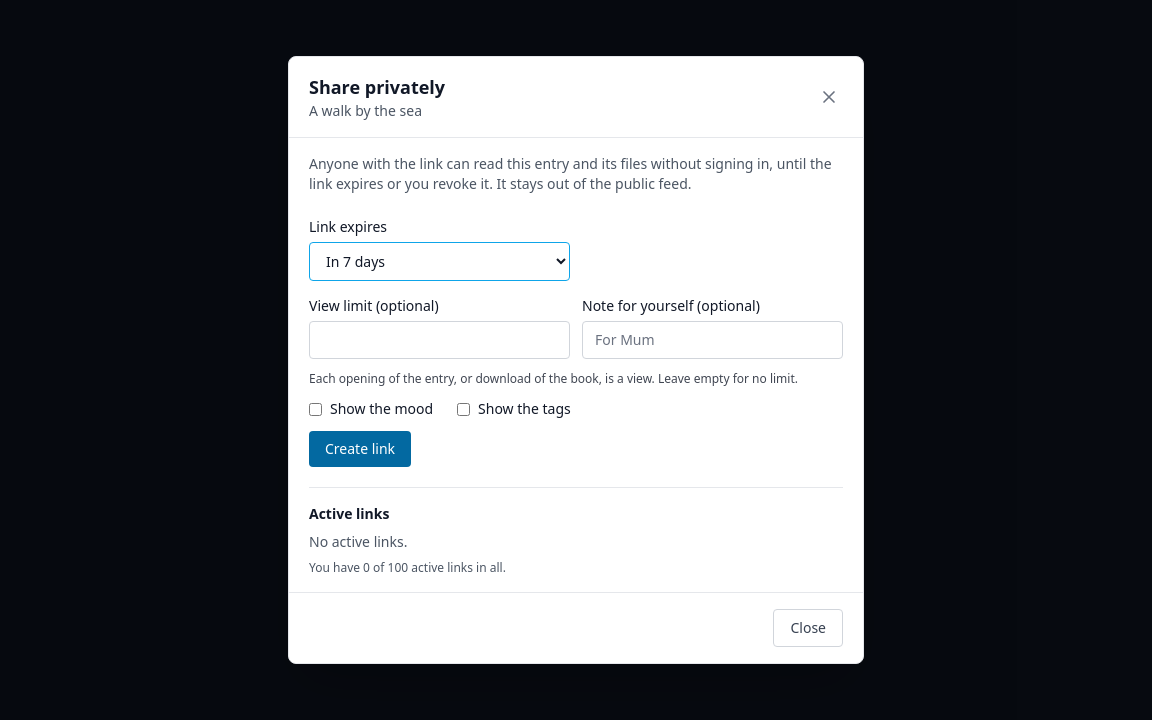
Scenario: ShareLinkDialog › makes a link with the chosen expiry and options, and shows its address once to copy
Expected: the text "No active links." is shown, x1=309 y1=532 x2=408 y2=551
Step 1. Select "In 1 day" in the dropdown labelled "Link expires" → point(440, 262), box x1=309 y1=242 x2=570 y2=281
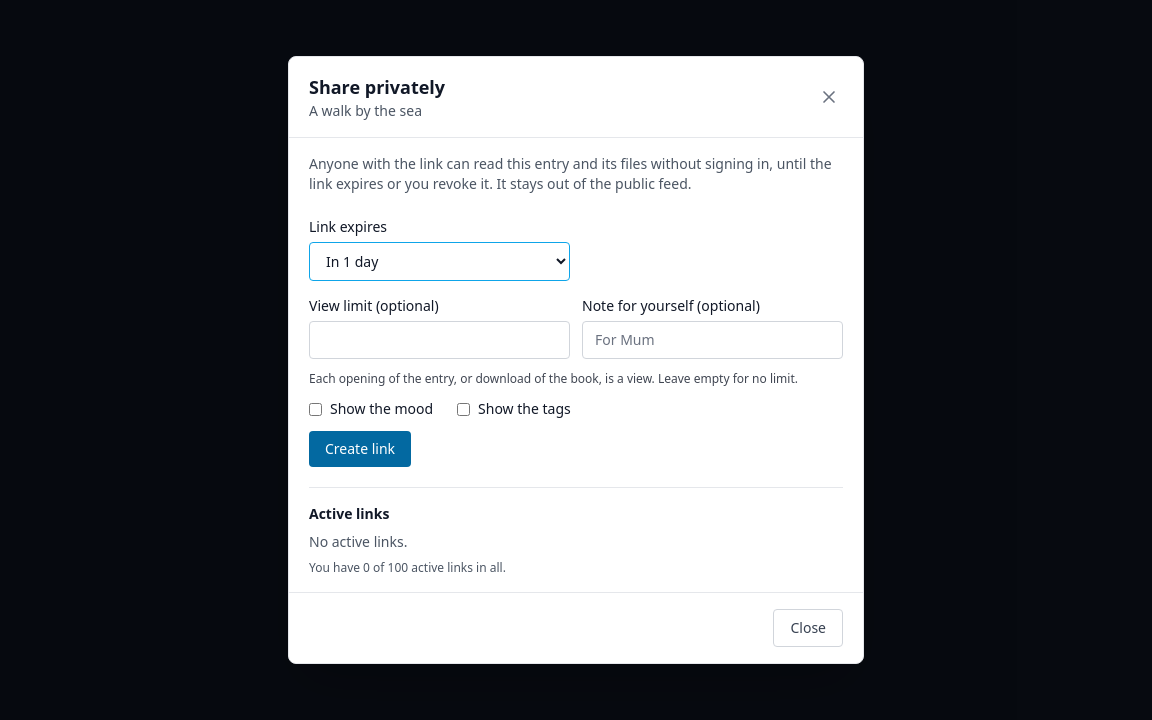
Step 2. Type "3" into the number field labelled "View limit (optional)" → point(440, 340), box x1=309 y1=321 x2=570 y2=359
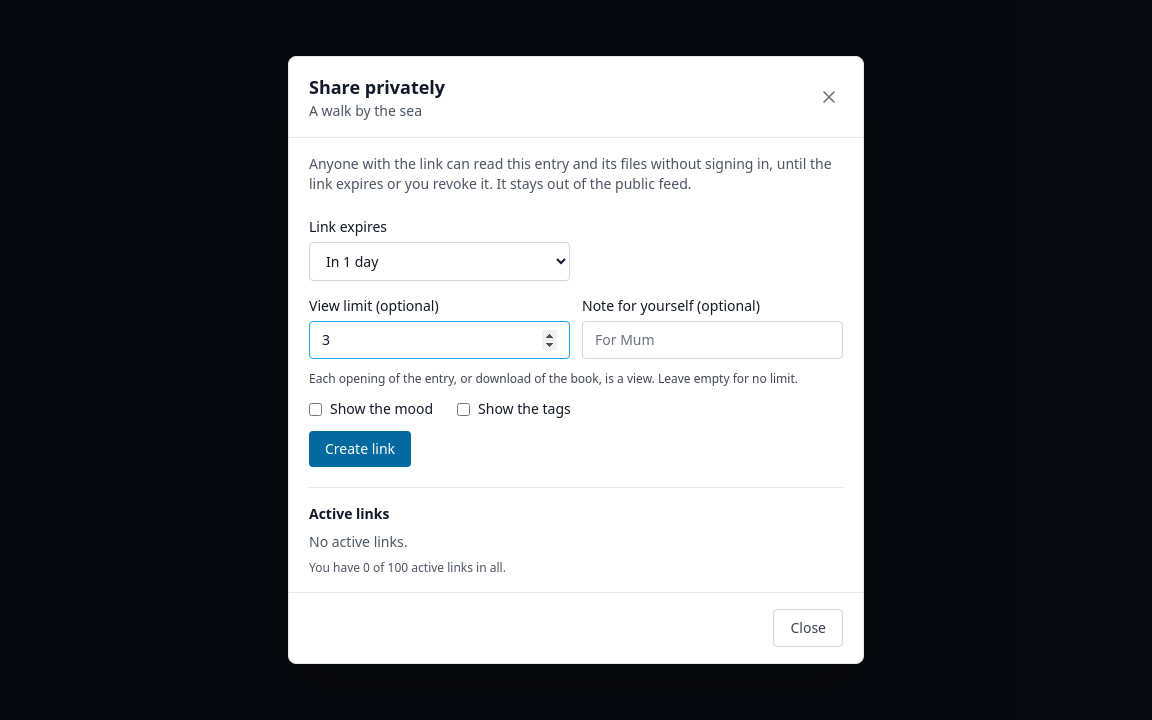
Step 3. Type " For Mum " into the field labelled "Note for yourself (optional)" → point(712, 340), box x1=582 y1=321 x2=843 y2=359
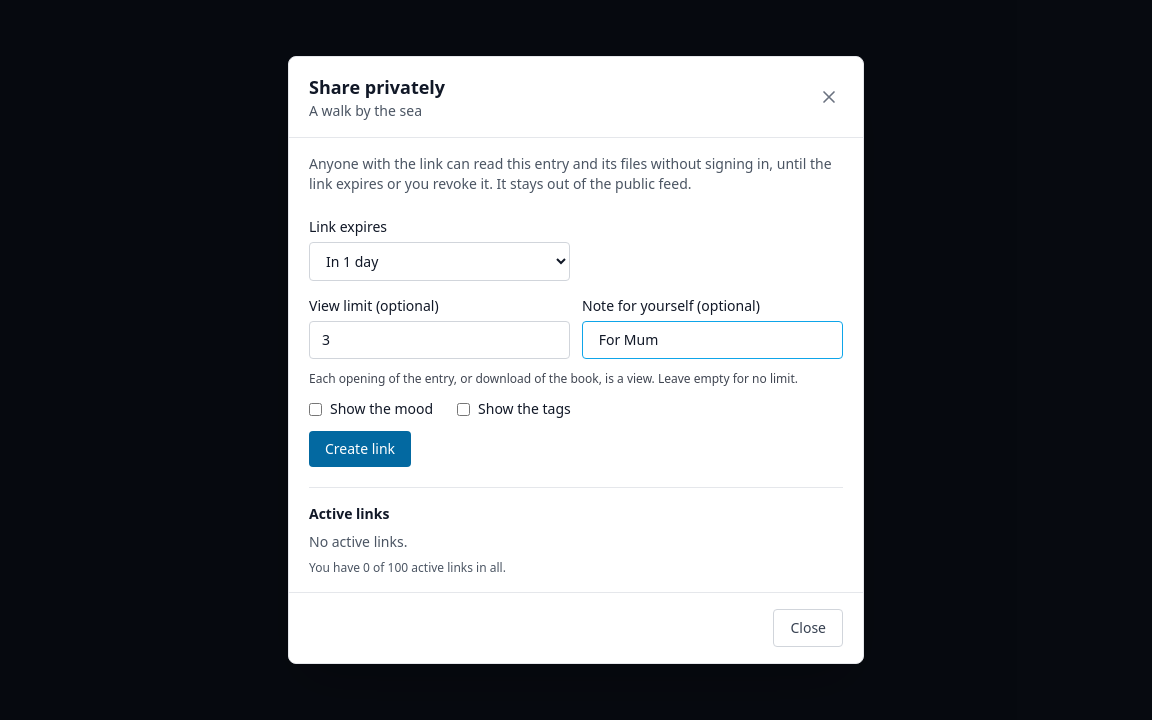
Step 4. Click the checkbox labelled "Show the tags" → point(464, 409), box x1=457 y1=402 x2=470 y2=416
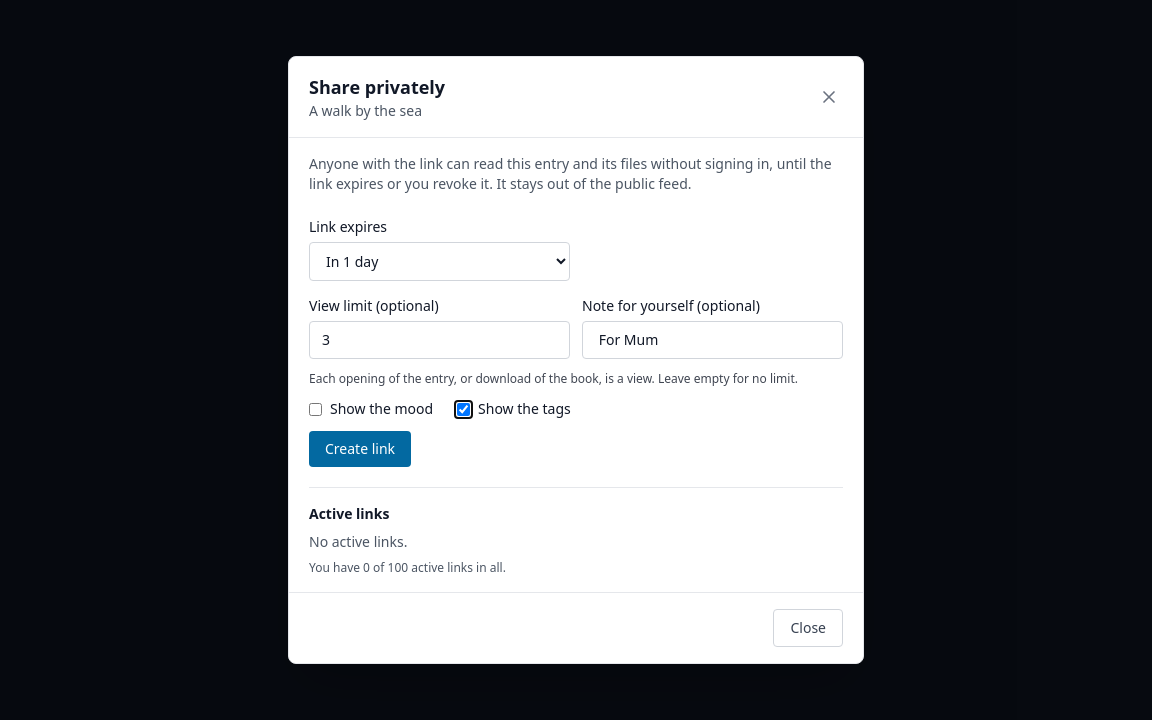
Step 5. Click the button "Create link" → point(360, 449), box x1=309 y1=431 x2=411 y2=467
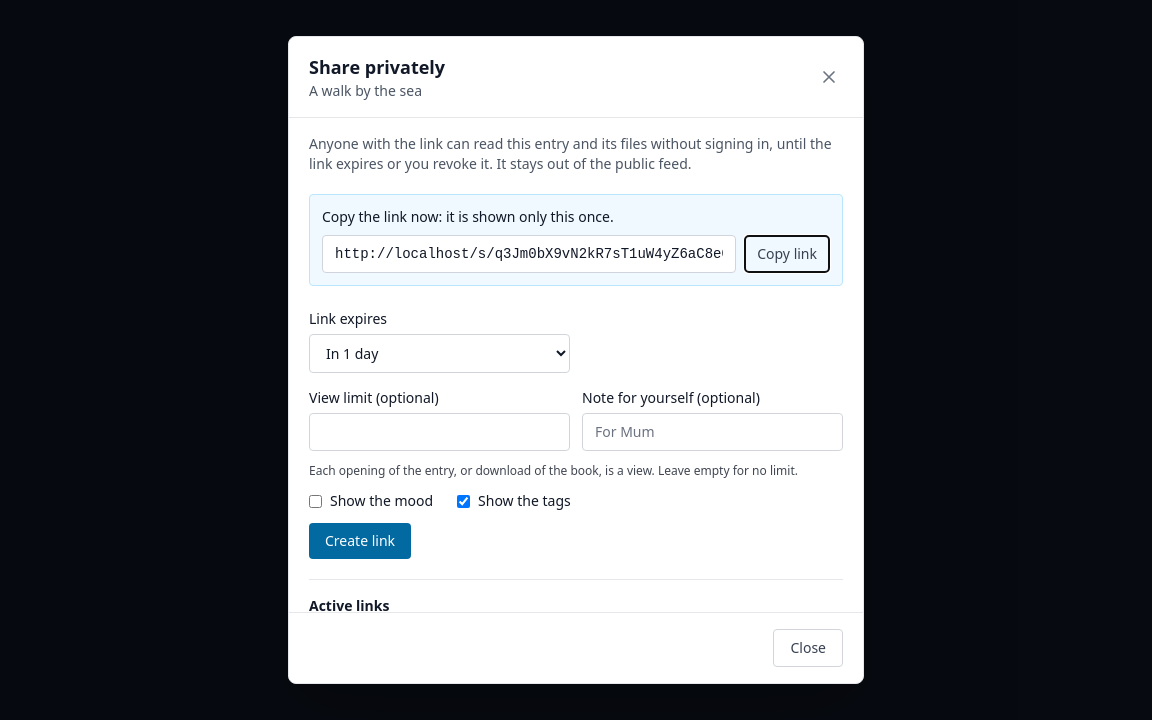
Now the text "Copy the link now: it is shown only this once." is shown, box x1=322 y1=207 x2=614 y2=226
Step 6. Click the button "Copy link" → point(787, 254), box x1=744 y1=235 x2=830 y2=273
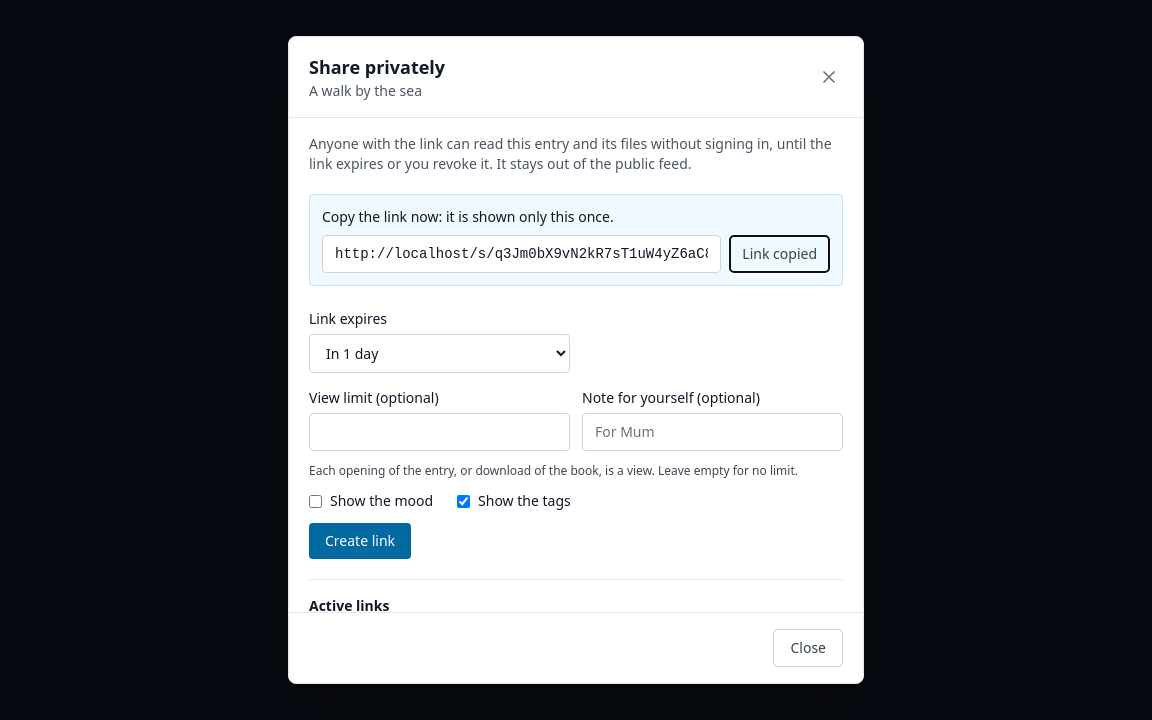
Now the button "Link copied" is shown, box x1=729 y1=235 x2=830 y2=273
